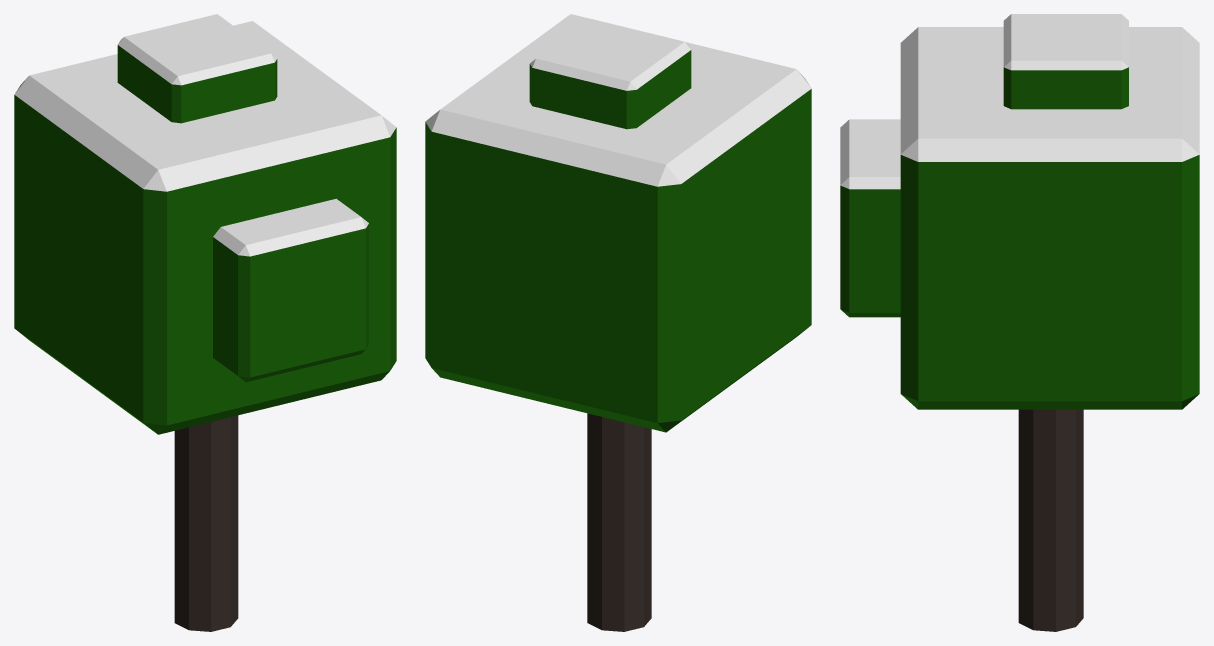
File: Simple_Tree_2_Winter.fbx
The picture shows the model from 3 angles, left to right: view 1: azimuth 30°, elevation 25°; view 2: azimuth 150°, elevation 25°; view 3: azimuth 270°, elevation 25°; orthographic projection. The views are drawn at different scales.
Parts seen in each view (by area): view 1: Simple_Tree_2_Winter; view 2: Simple_Tree_2_Winter; view 3: Simple_Tree_2_Winter.
Boxes of the visible parts, left/top/right/bottom form: Simple_Tree_2_Winter: left=14, top=14, right=396, bottom=631; Simple_Tree_2_Winter: left=425, top=14, right=811, bottom=631; Simple_Tree_2_Winter: left=840, top=14, right=1199, bottom=631.
Bounding box in the file's own units: 242 × 518 × 291.
